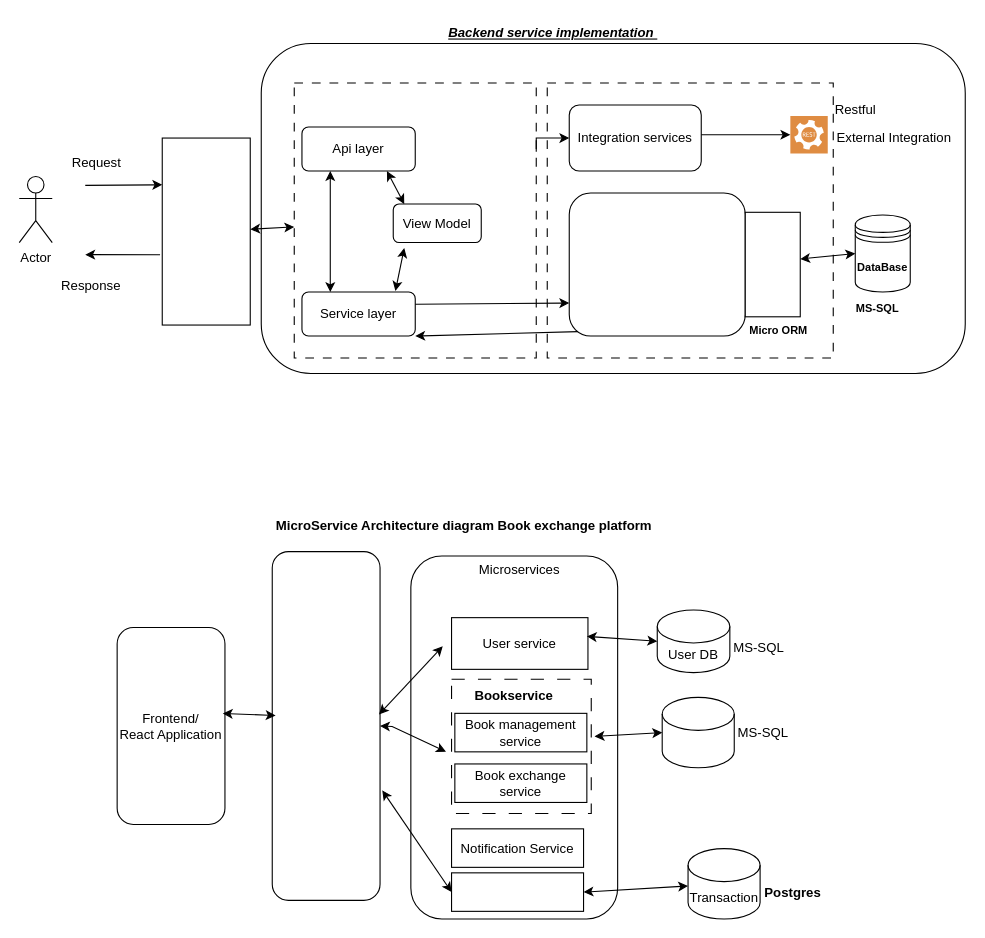
Image size: 985x938. Some labels were removed from this diagram. Each missing label, with the centre of its shape:
"API Gateway (Ocelot)" belongs at (325,725).
"API_GateWay (ocelot)" belongs at (205,231).
"Books DB" belongs at (697,732).
"Dapper" belongs at (772,264).
"Repository layer" belongs at (656,264).
"Transaction Service" belongs at (517,891).
